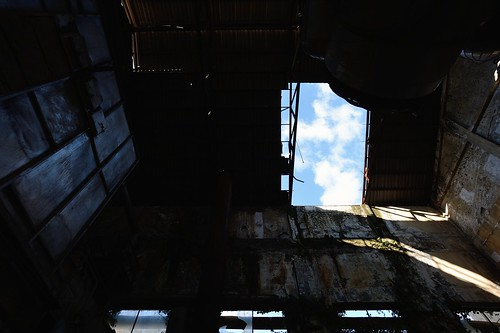sky: (288, 85, 363, 194)
wall: (147, 203, 500, 333), (450, 61, 500, 238)
